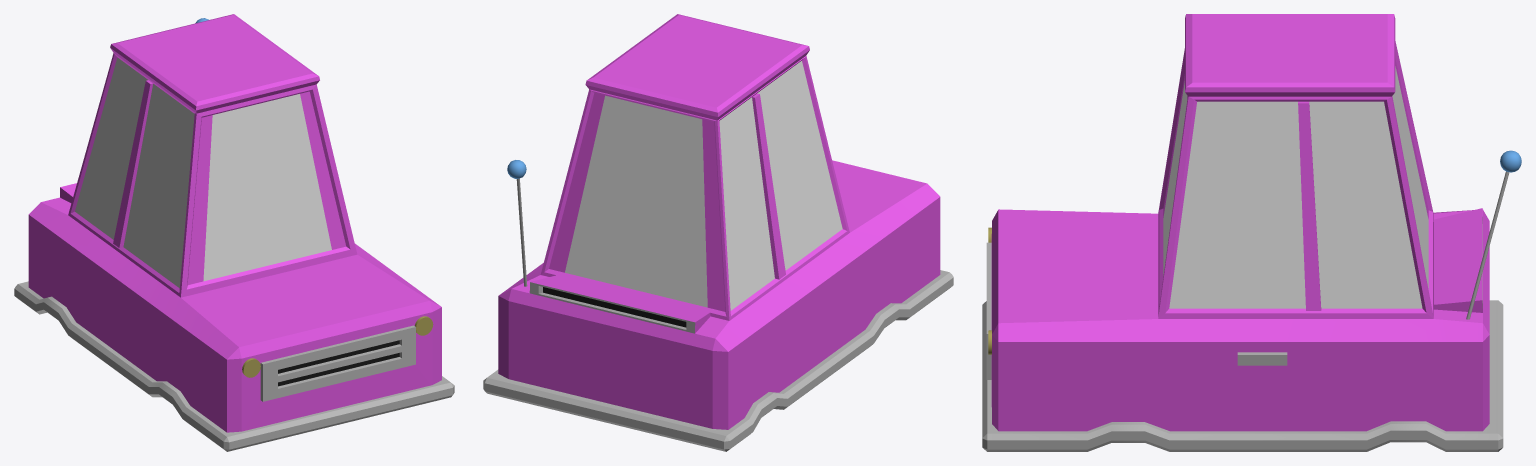
Rendered from Car_003 W Seats.fbx.
The picture shows the model from 3 angles, left to right: view 1: azimuth 30°, elevation 25°; view 2: azimuth 150°, elevation 25°; view 3: azimuth 270°, elevation 25°; orthographic projection. The views are drawn at different scales.
Visible parts, largest first — view 1: pCylinder19; view 2: pCylinder19; view 3: pCylinder19.
Boxes of the visible parts, x1,y1,x2,y2 form: pCylinder19: [14, 14, 454, 451]; pCylinder19: [483, 14, 953, 451]; pCylinder19: [982, 14, 1521, 451].
Size of the model in its own units: 3.08 by 3.51 by 5.1.
